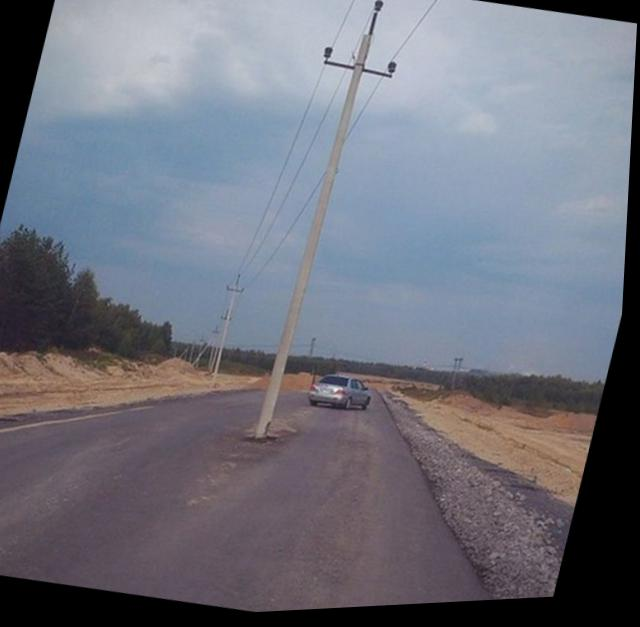Animal: (218, 0, 417, 463), (204, 265, 255, 385)
